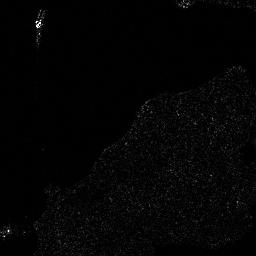ship: (33, 5, 46, 30)
